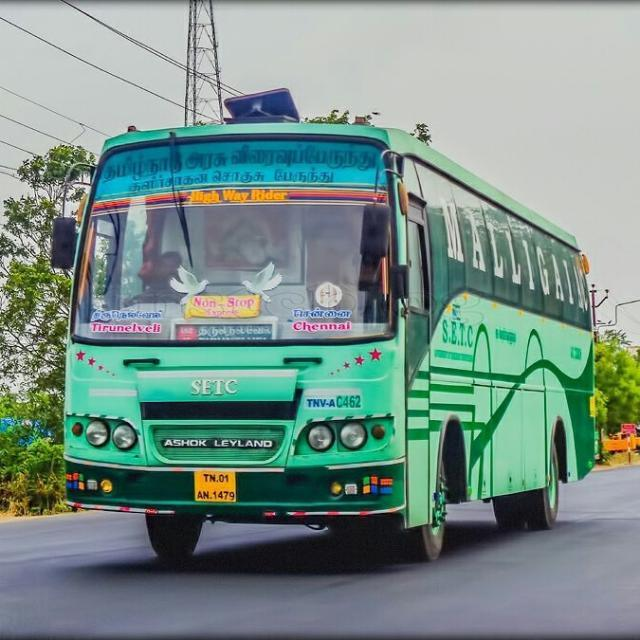Bus: (47, 86, 598, 565)
